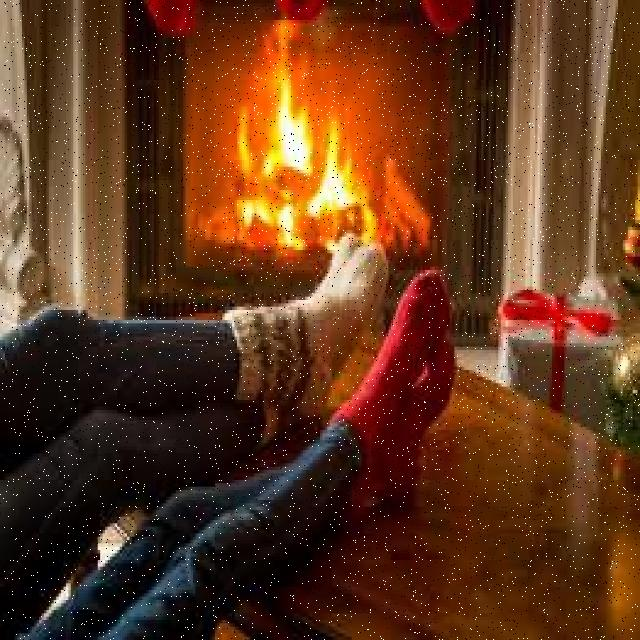fire: (230, 63, 409, 246)
